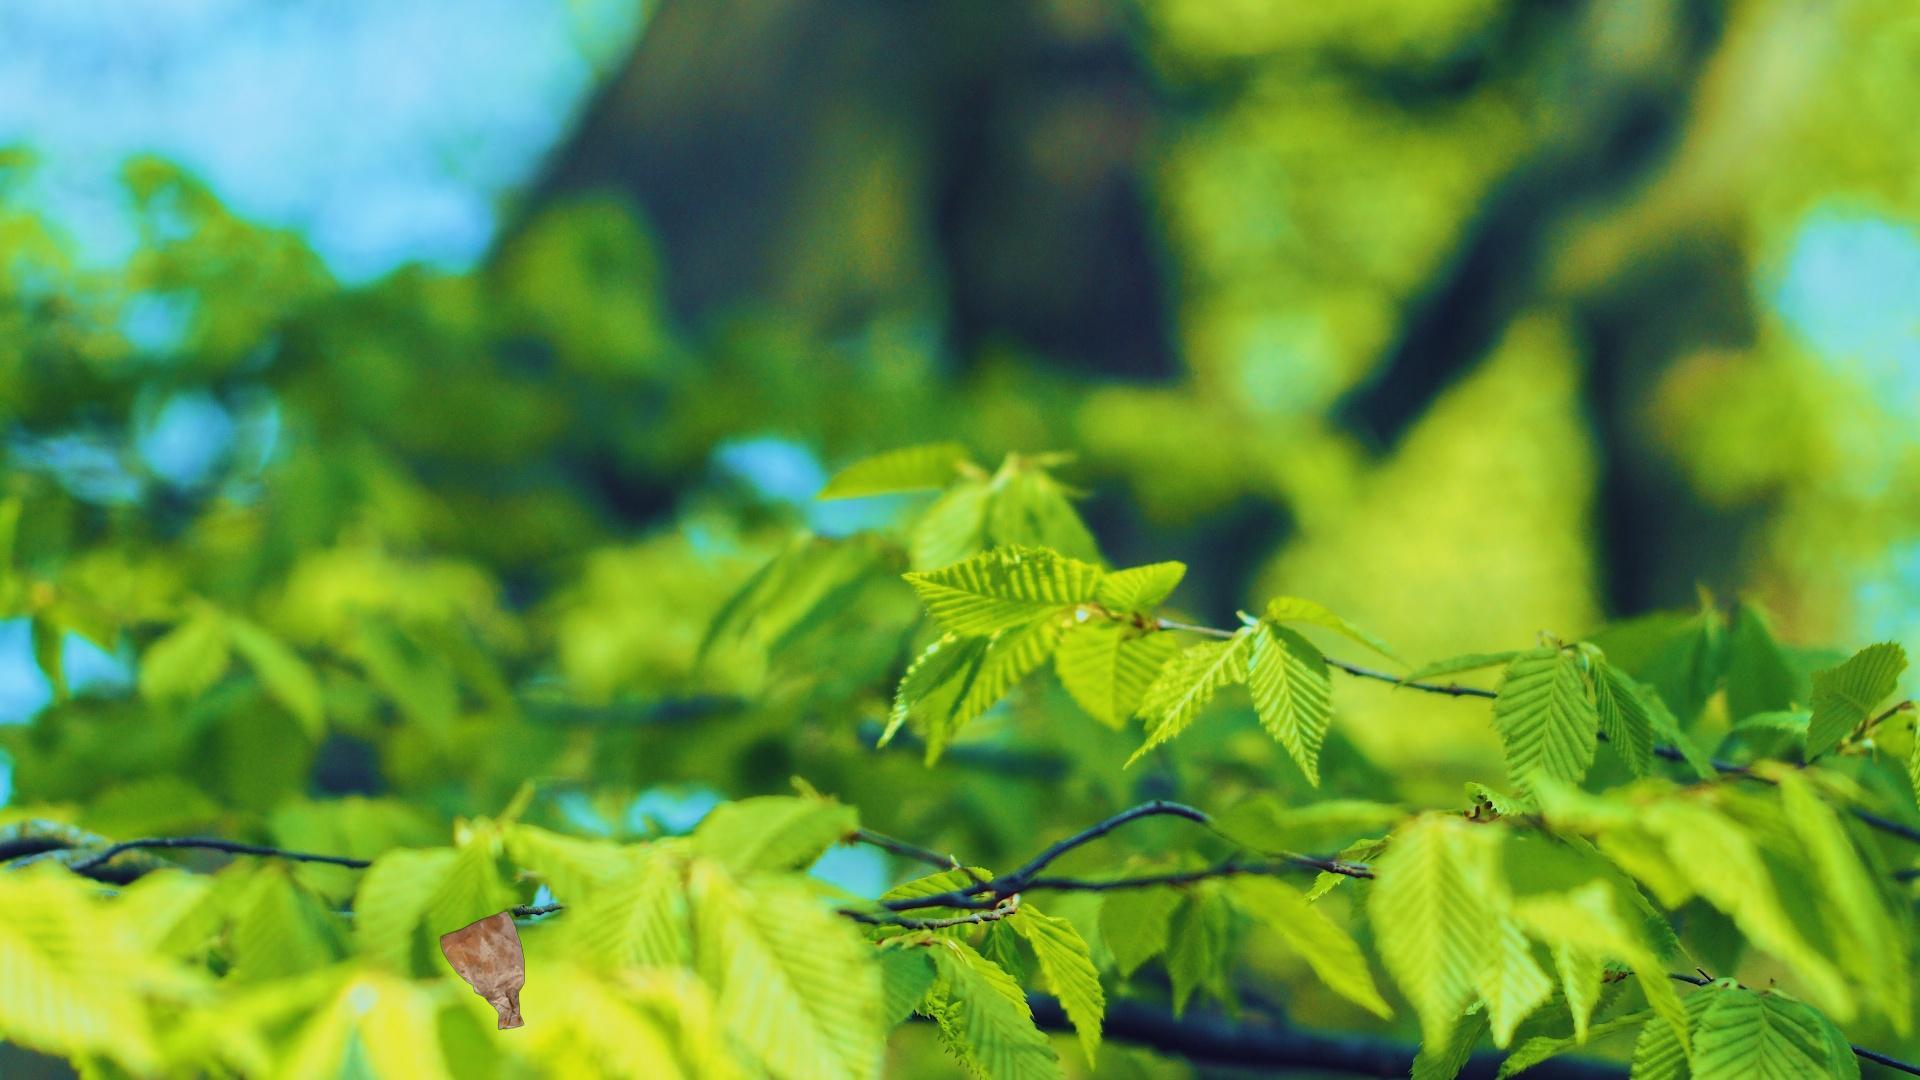paper-bag: (436, 907, 527, 1031)
